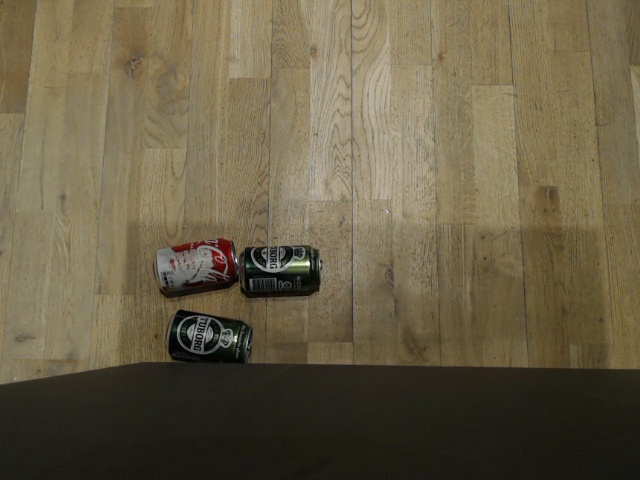beer: (238, 241, 326, 302), (160, 310, 255, 364)
cola: (139, 234, 232, 296)
